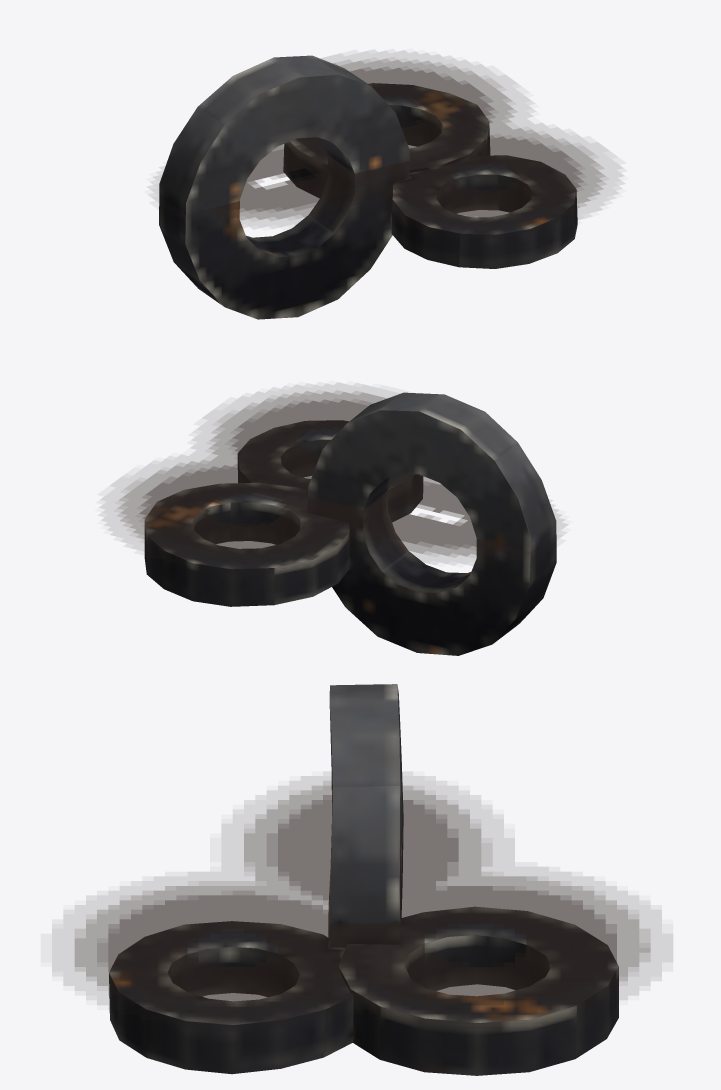
3 renders of one model, top to bottom at view 1: azimuth 30°, elevation 25°; view 2: azimuth 150°, elevation 25°; view 3: azimuth 270°, elevation 25°, orthographic. The views are drawn at different scales.
Visible parts, largest first — view 1: Tyre, GroundShade; view 2: Tyre, GroundShade; view 3: GroundShade, Tyre.
Part boxes in pixels (x1,y1,x2,y2): Tyre: [159, 55, 577, 319]; GroundShade: [152, 51, 622, 235]; Tyre: [144, 392, 556, 655]; GroundShade: [100, 383, 567, 571]; GroundShade: [52, 776, 672, 1028]; Tyre: [109, 684, 618, 1075].
Bounding box in the file's own units: 7.25 × 3.83 × 7.4.
Materials: 2 (2 with a texture image).
